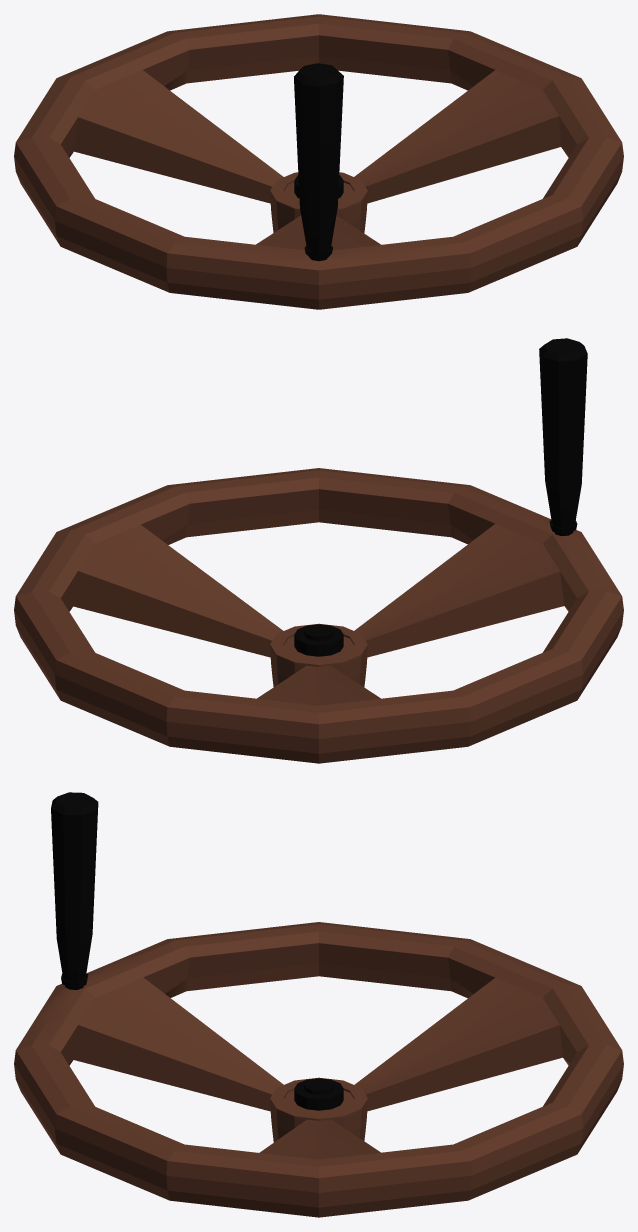
Rendered from VALVE22.fbx.
3 views of the same model, one above another, from view 1: azimuth 30°, elevation 25°; view 2: azimuth 150°, elevation 25°; view 3: azimuth 270°, elevation 25° (orthographic).
Parts seen in each view (by area): view 1: polySurface5; view 2: polySurface5, polySurface6; view 3: polySurface5, polySurface6.
Boxes of the visible parts, bbox=[...] form: polySurface5: bbox=[14, 14, 623, 309]; polySurface5: bbox=[14, 338, 623, 763]; polySurface6: bbox=[294, 624, 343, 656]; polySurface5: bbox=[14, 792, 623, 1217]; polySurface6: bbox=[294, 1078, 343, 1110].
Bounding box in the file's own units: 17.2 × 8.88 × 17.2.
